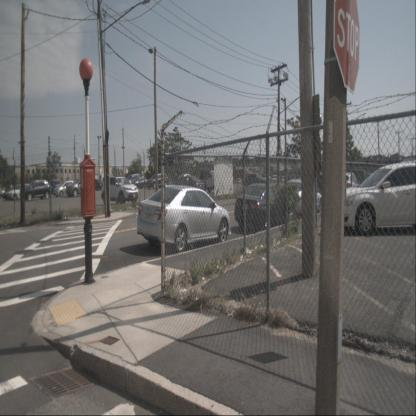vehicle-car: (136, 184, 232, 252), (337, 163, 416, 235), (234, 183, 295, 230), (284, 178, 322, 218), (101, 176, 139, 204), (170, 175, 204, 197), (198, 169, 224, 193), (23, 179, 50, 201), (66, 178, 91, 197), (340, 173, 360, 196), (5, 184, 31, 200), (52, 181, 76, 196), (244, 173, 267, 188), (147, 173, 167, 189), (44, 179, 62, 195), (131, 176, 148, 189), (125, 174, 141, 186), (88, 180, 102, 190), (272, 175, 277, 182)
